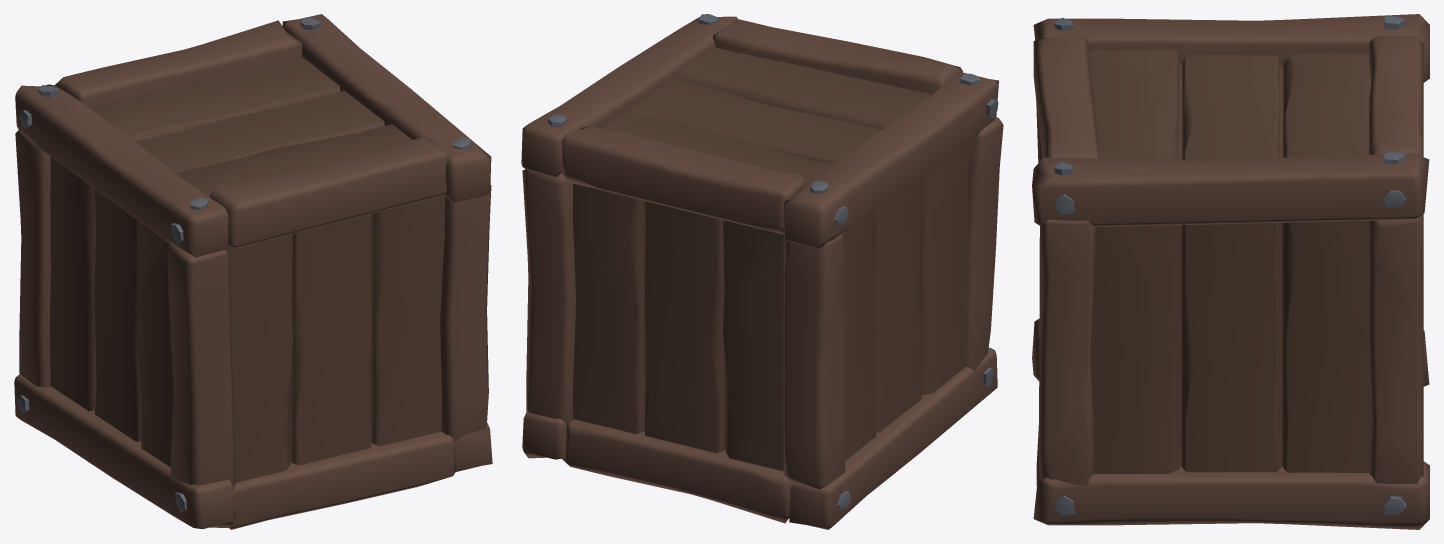
Rendered from crate.fbx.
3 views of the same model, side by side, from view 1: azimuth 30°, elevation 25°; view 2: azimuth 150°, elevation 25°; view 3: azimuth 270°, elevation 25° (orthographic). The views are drawn at different scales.
Parts seen in each view (by area): view 1: crate; view 2: crate; view 3: crate.
Boxes of the visible parts, bbox=[...] form: crate: bbox=[14, 14, 492, 529]; crate: bbox=[521, 14, 1003, 529]; crate: bbox=[1032, 14, 1429, 529].
Size of the model in its own units: 122 by 125 by 121.
